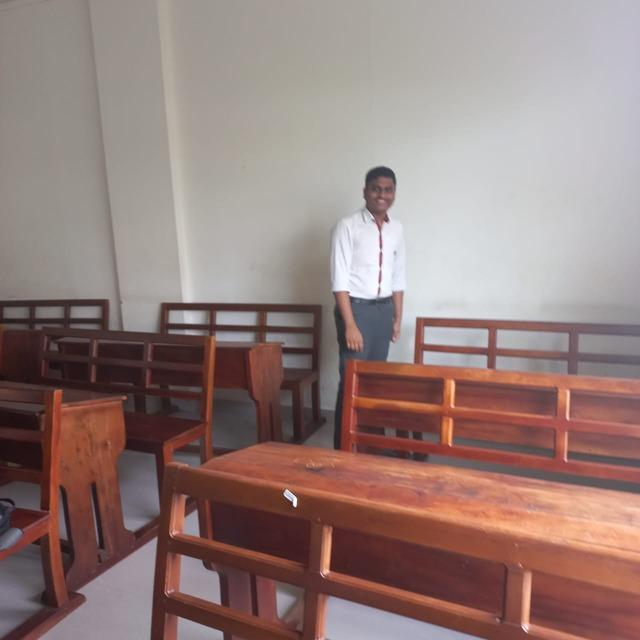no_apron: (352, 224, 397, 319)
no_gloves: (345, 324, 366, 355), (393, 319, 404, 344)
no_hairnet: (363, 163, 399, 188)
